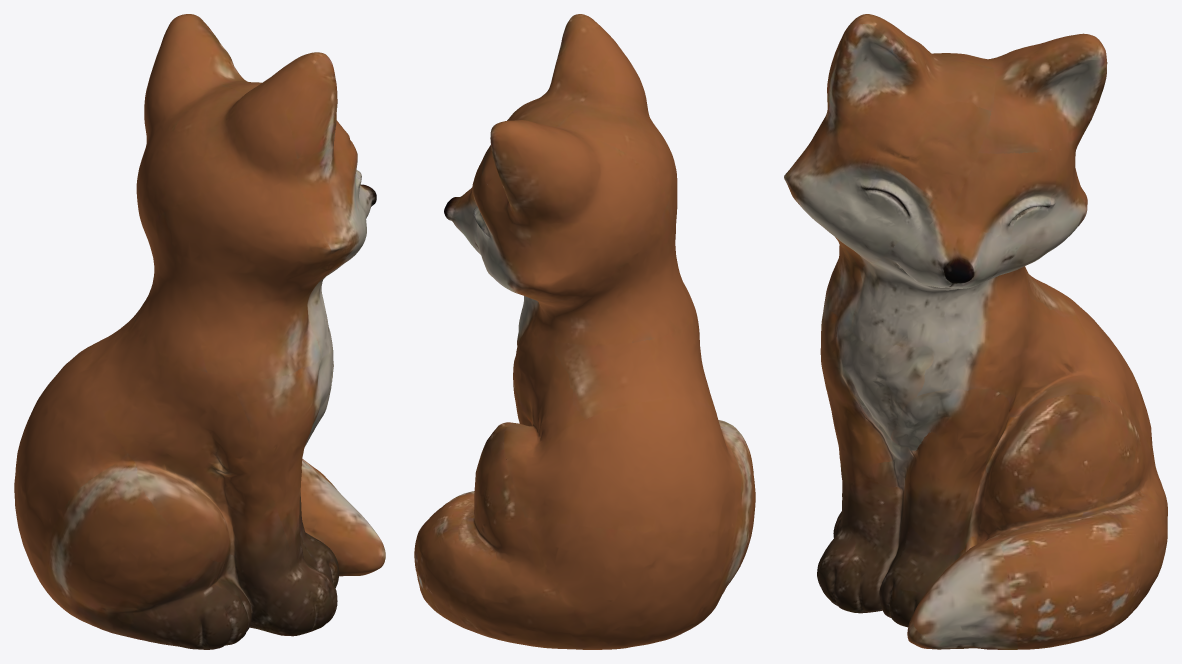
The model's file is fox.glb.
3 renders of one model, left to right at view 1: azimuth 30°, elevation 25°; view 2: azimuth 150°, elevation 25°; view 3: azimuth 270°, elevation 25°, orthographic. The views are drawn at different scales.
Parts seen in each view (by area): view 1: tripo_node_4d4f928f-00b1-45d4-aa4f-c1bb53400332; view 2: tripo_node_4d4f928f-00b1-45d4-aa4f-c1bb53400332; view 3: tripo_node_4d4f928f-00b1-45d4-aa4f-c1bb53400332.
Part boxes in pixels (x1,y1,x2,y2): tripo_node_4d4f928f-00b1-45d4-aa4f-c1bb53400332: (14, 14, 385, 649); tripo_node_4d4f928f-00b1-45d4-aa4f-c1bb53400332: (414, 14, 755, 649); tripo_node_4d4f928f-00b1-45d4-aa4f-c1bb53400332: (784, 14, 1167, 649).
Bounding box in the file's own units: 0.5898 × 1 × 0.5815.
1 material, 1 textured.
